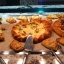pizza: (13, 21, 51, 42)
